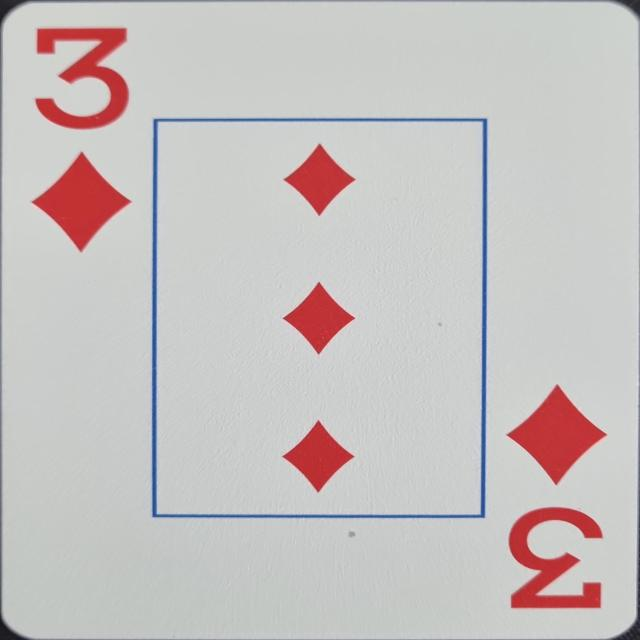3d: (504, 381, 604, 611), (35, 22, 133, 255)
